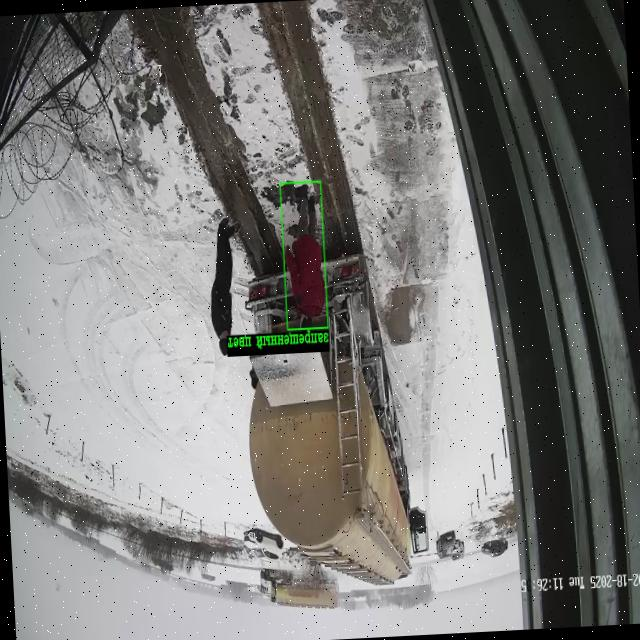Person: (211, 218, 239, 356)
Red uniform: (286, 187, 324, 326)
